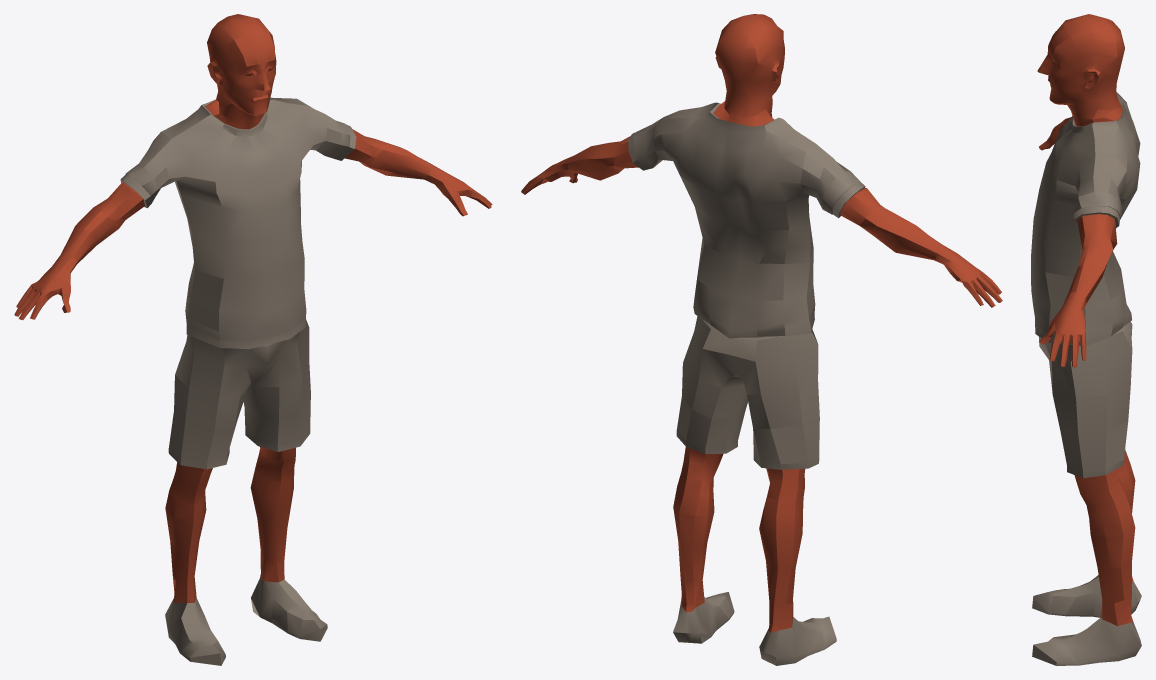
Rendered from character17.glb.
The picture shows the model from 3 angles, left to right: view 1: azimuth 30°, elevation 25°; view 2: azimuth 150°, elevation 25°; view 3: azimuth 270°, elevation 25°; orthographic projection.
Parts seen in each view (by area): view 1: Mesh_ROUPA_0, Mesh_PELE_0; view 2: Mesh_ROUPA_0, Mesh_PELE_0; view 3: Mesh_ROUPA_0, Mesh_PELE_0.
Boxes of the visible parts, x1=… form: Mesh_ROUPA_0: x1=120, y1=97, x2=356, y2=665; Mesh_PELE_0: x1=14, y1=14, x2=492, y2=603; Mesh_ROUPA_0: x1=628, y1=102, x2=865, y2=665; Mesh_PELE_0: x1=521, y1=14, x2=1002, y2=632; Mesh_ROUPA_0: x1=1031, y1=92, x2=1141, y2=665; Mesh_PELE_0: x1=1037, y1=14, x2=1135, y2=626.
Size of the model in its own units: 246 by 307 by 49.99.
